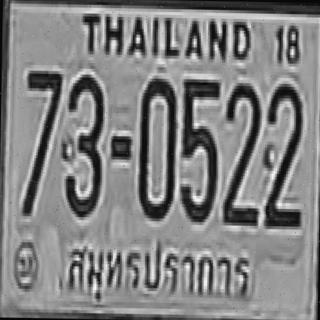N00: (137, 75, 175, 218)
N02: (262, 80, 302, 226), (222, 80, 260, 223)
N03: (60, 71, 103, 217)
N05: (179, 76, 219, 219)
N07: (21, 68, 61, 214)
P57: (63, 234, 253, 306)
